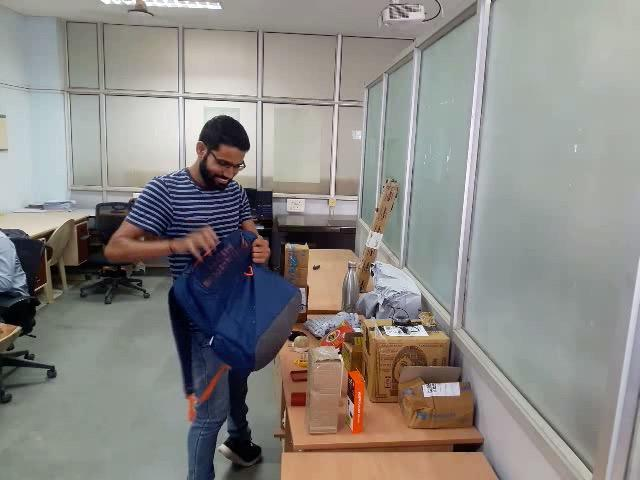shoplifting: (104, 206, 366, 433)
